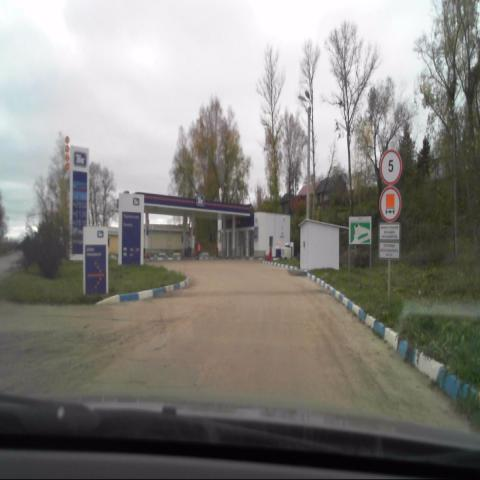3_32: (380, 188, 402, 221)
